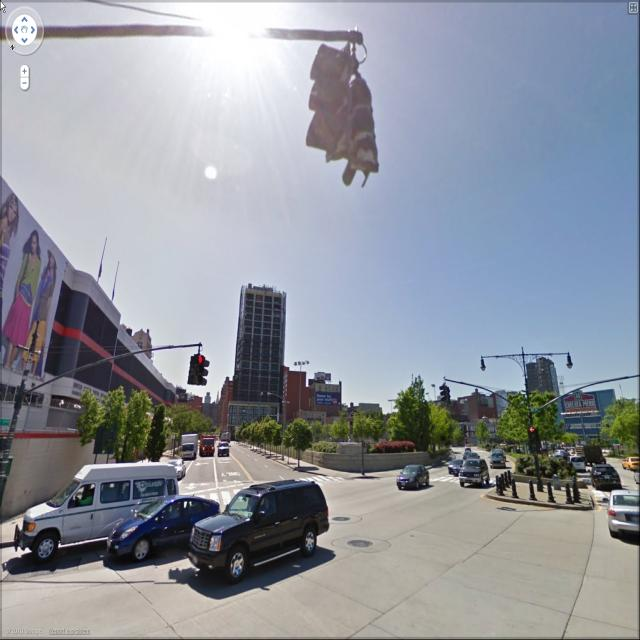b_1: (226, 278, 290, 439), (280, 366, 346, 426), (520, 344, 564, 402)
b_2: (0, 168, 177, 440)
